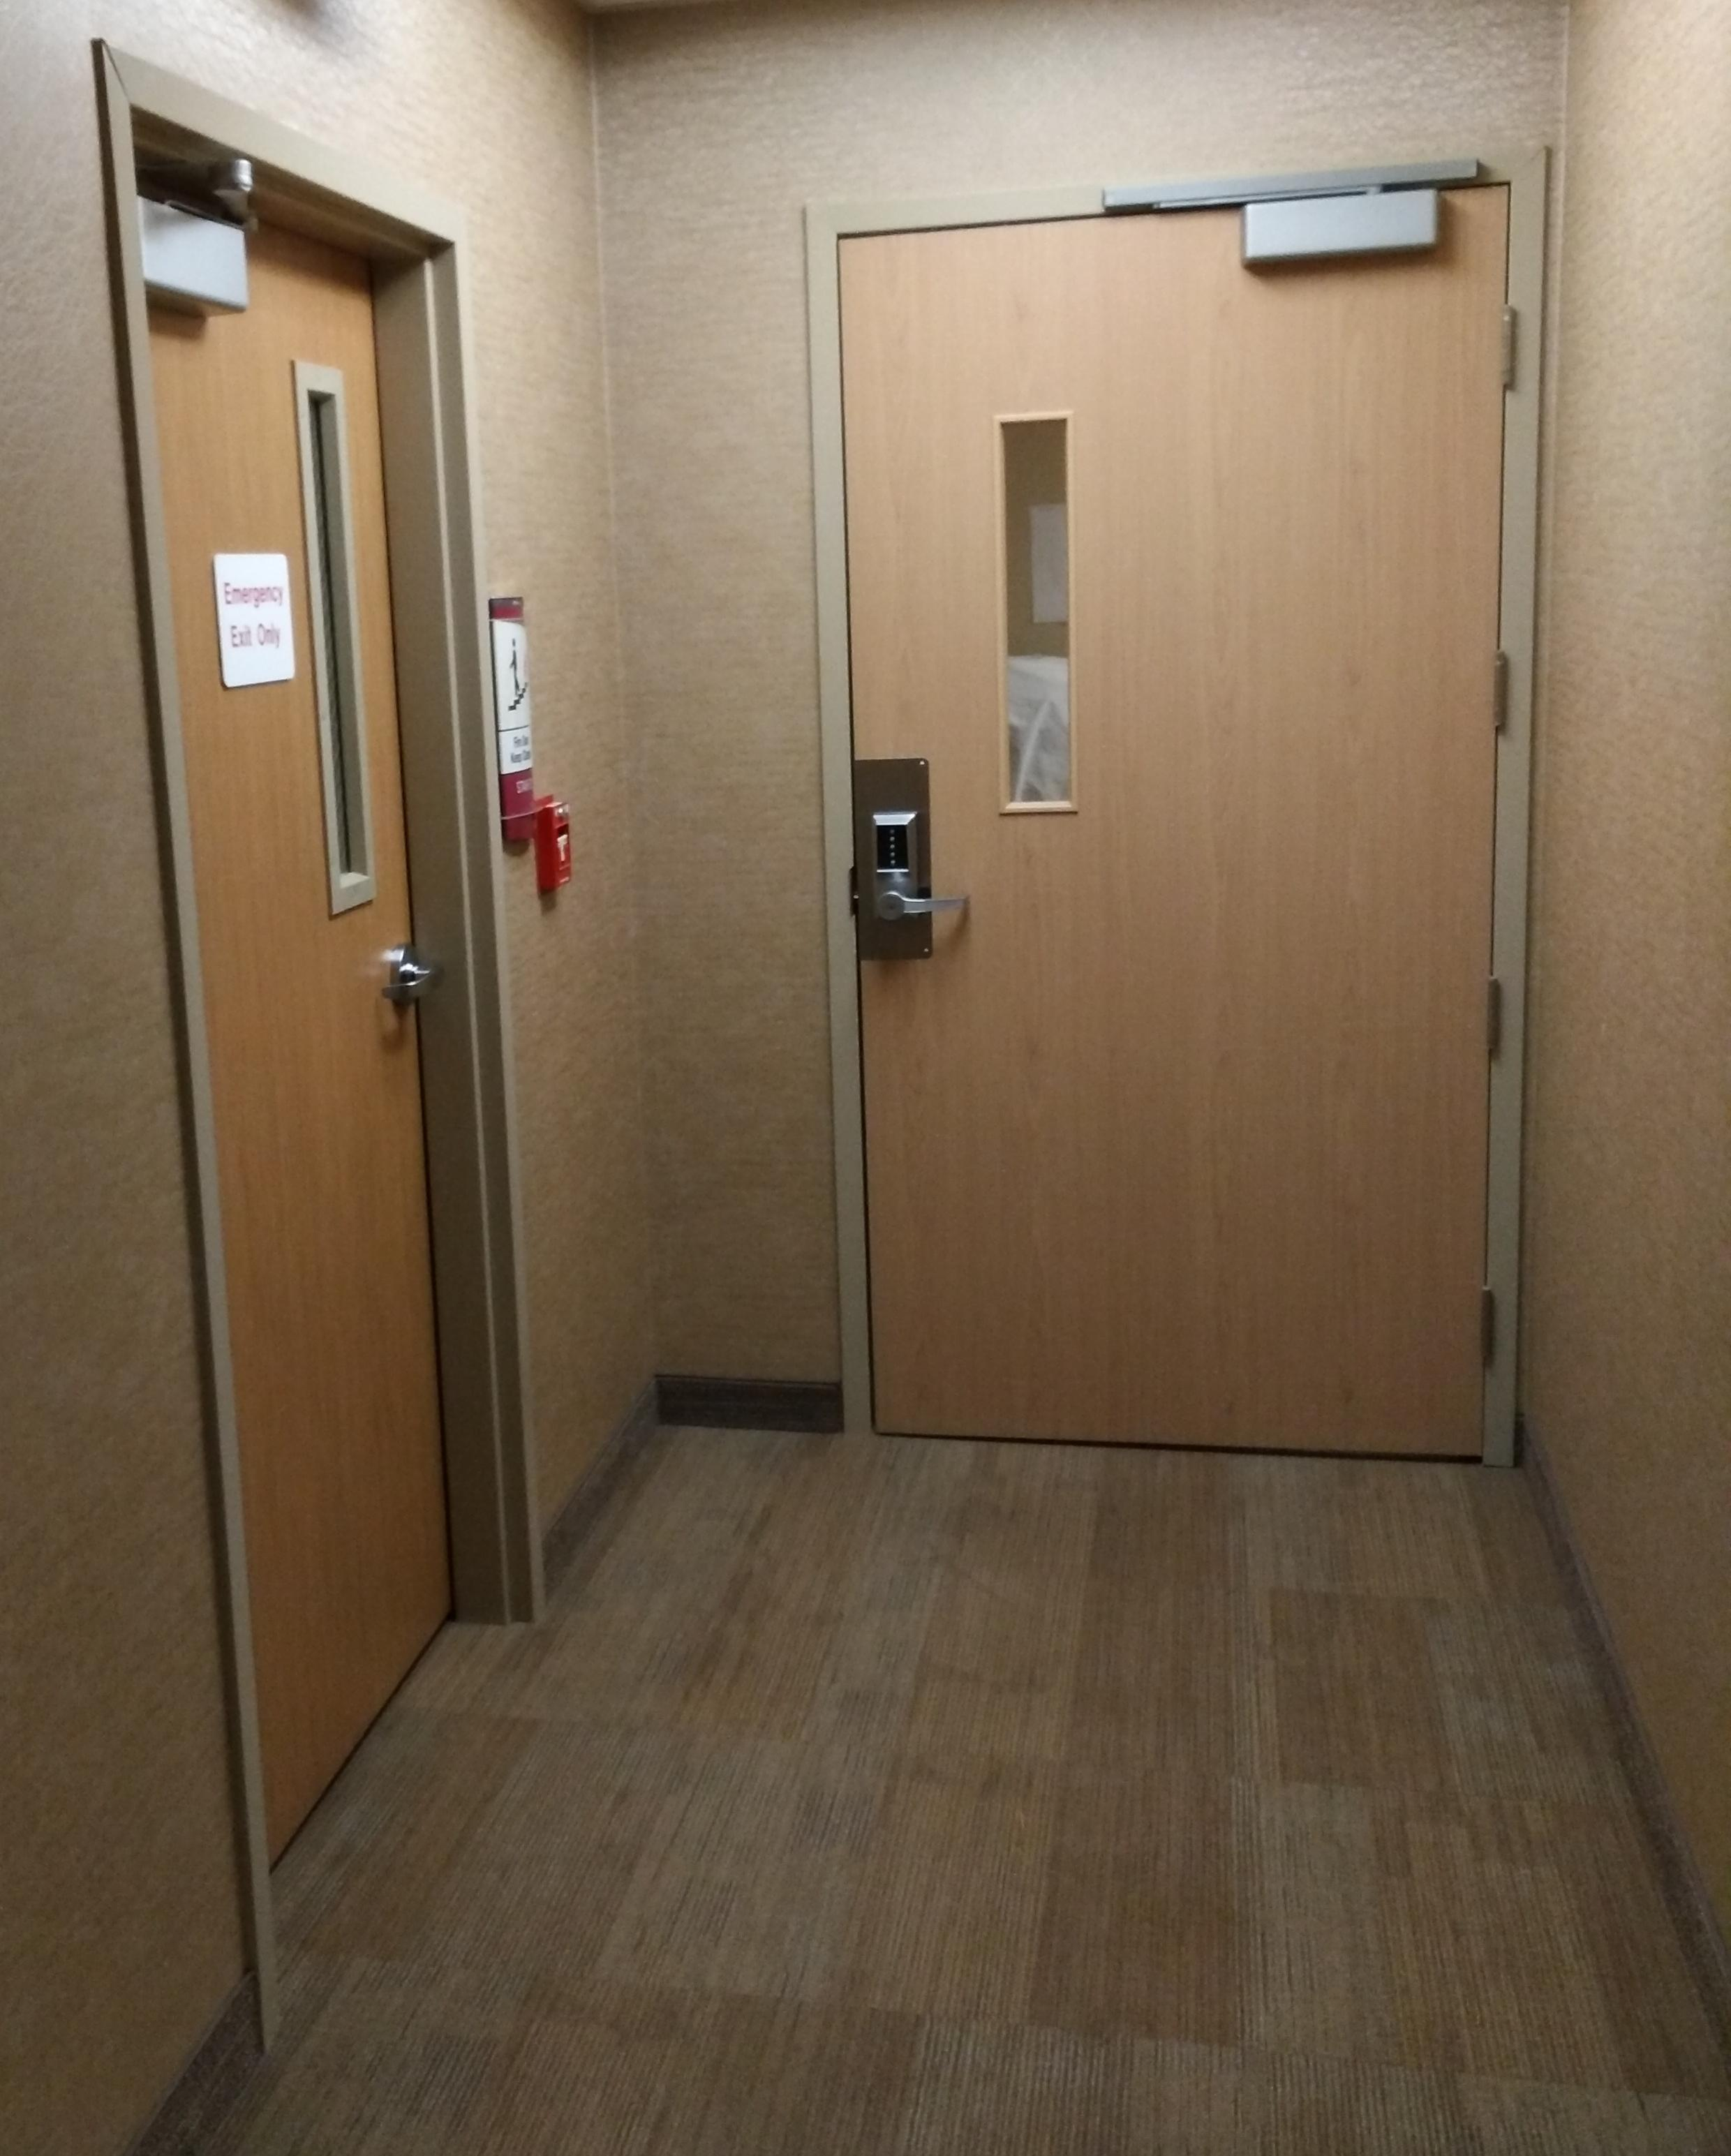door: (820, 164, 1535, 1460), (83, 35, 562, 1942)
